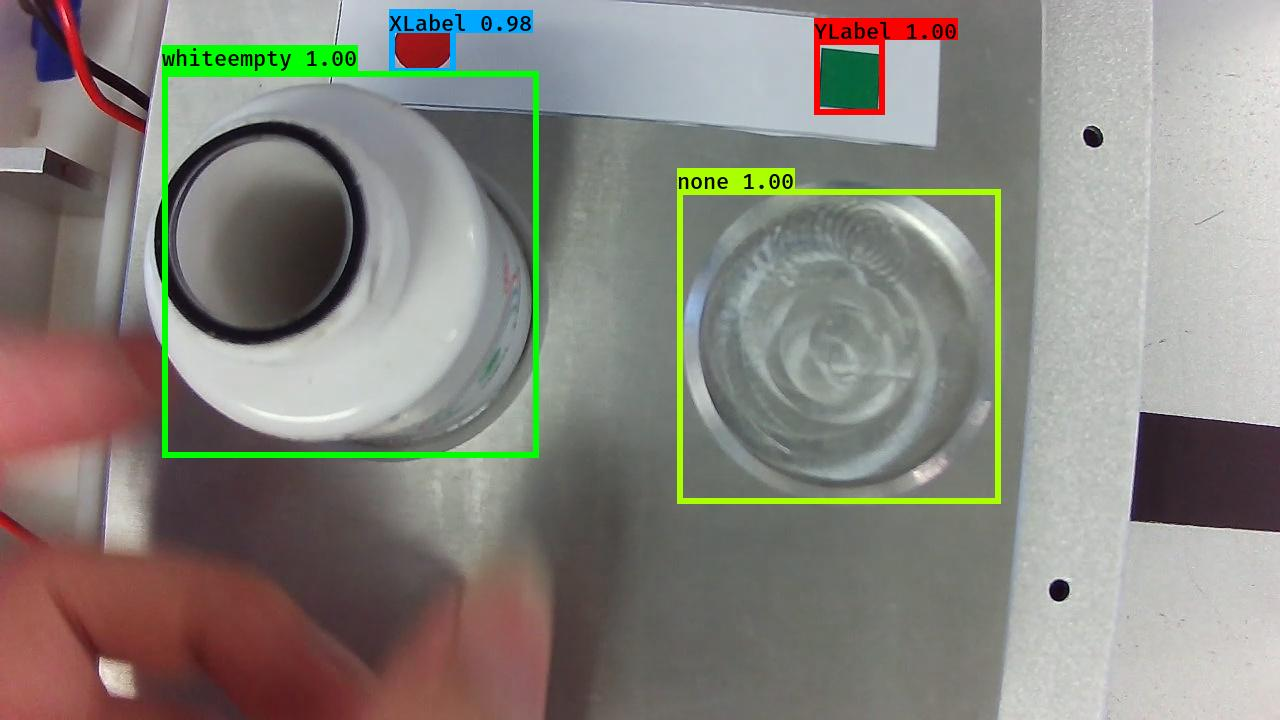XLabel: (388, 6, 458, 76)
YLabel: (814, 41, 883, 116)
none: (673, 173, 1014, 512)
whiteempty: (134, 78, 557, 469)
